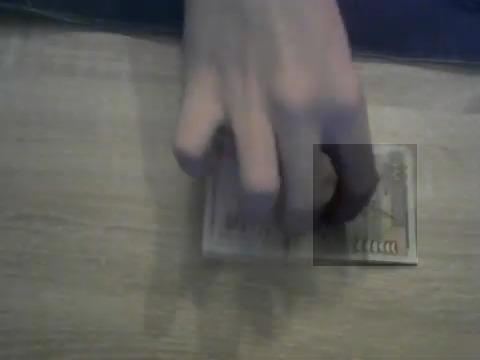10leva: (313, 144, 417, 266)
